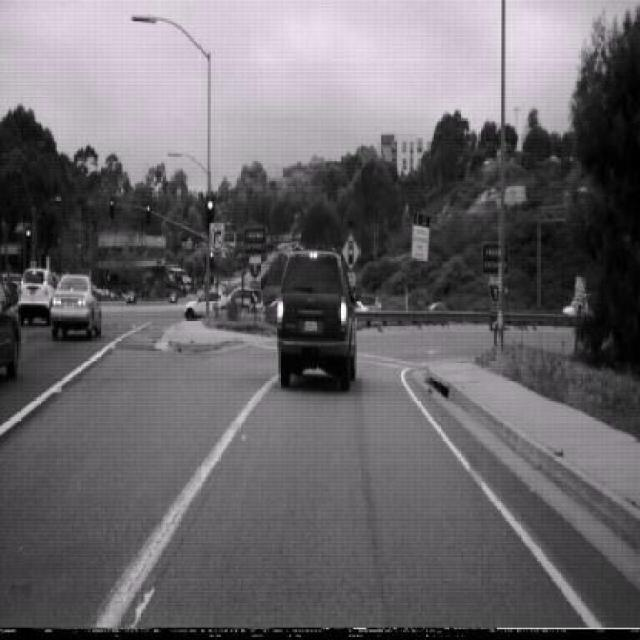noRightTurn: (209, 222, 225, 252)
signalAhead: (342, 232, 361, 271)
